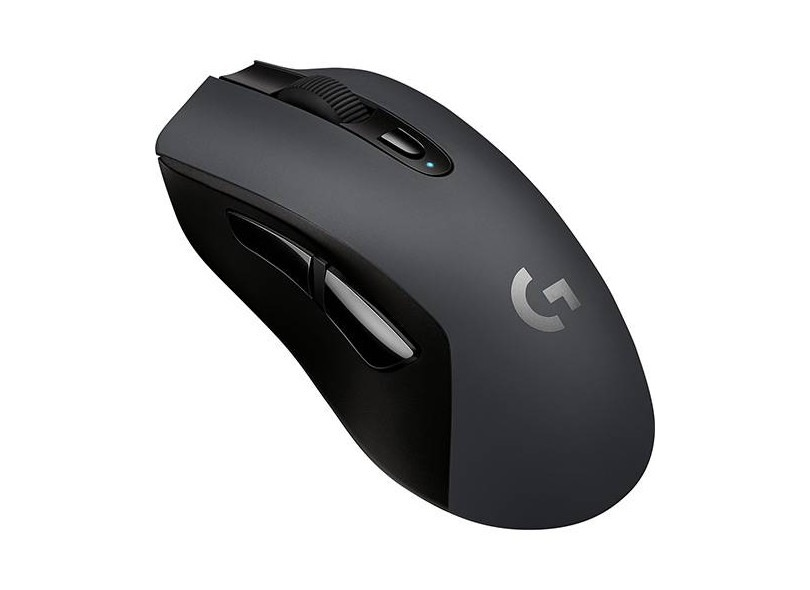mouse: (145, 53, 672, 525)
